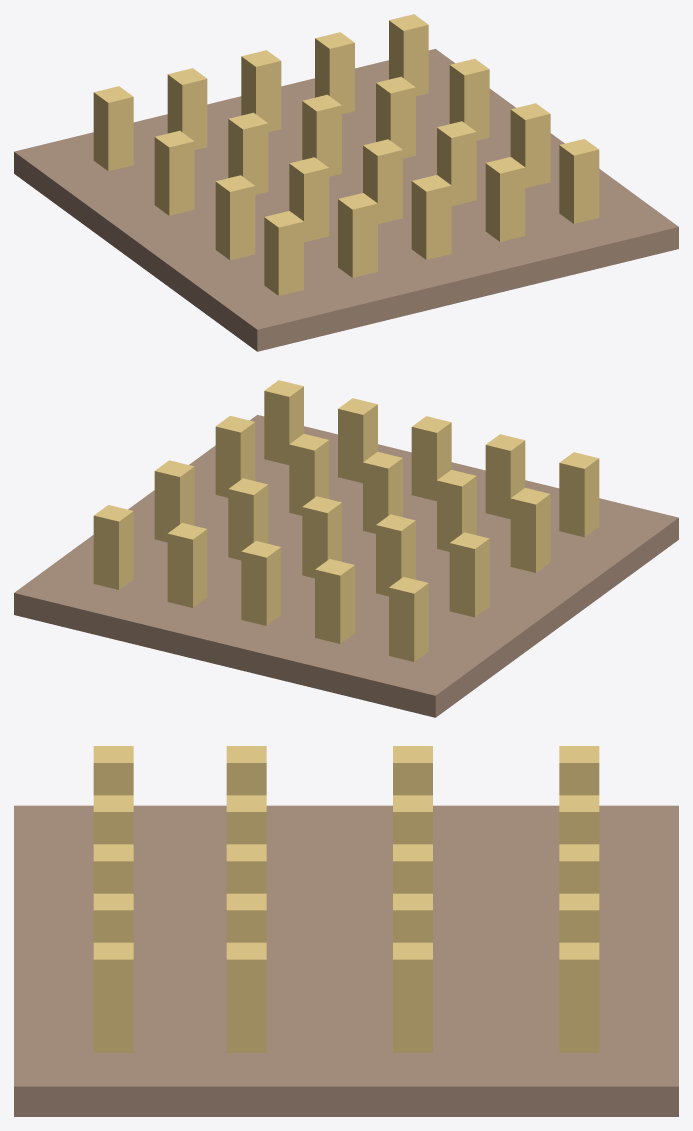
Rendered from farm.gltf.
3 views of the same model, one above another, from view 1: azimuth 30°, elevation 25°; view 2: azimuth 150°, elevation 25°; view 3: azimuth 270°, elevation 25° (orthographic). The views are drawn at different scales.
Size of the model in its own units: 2 by 0.41 by 2.
